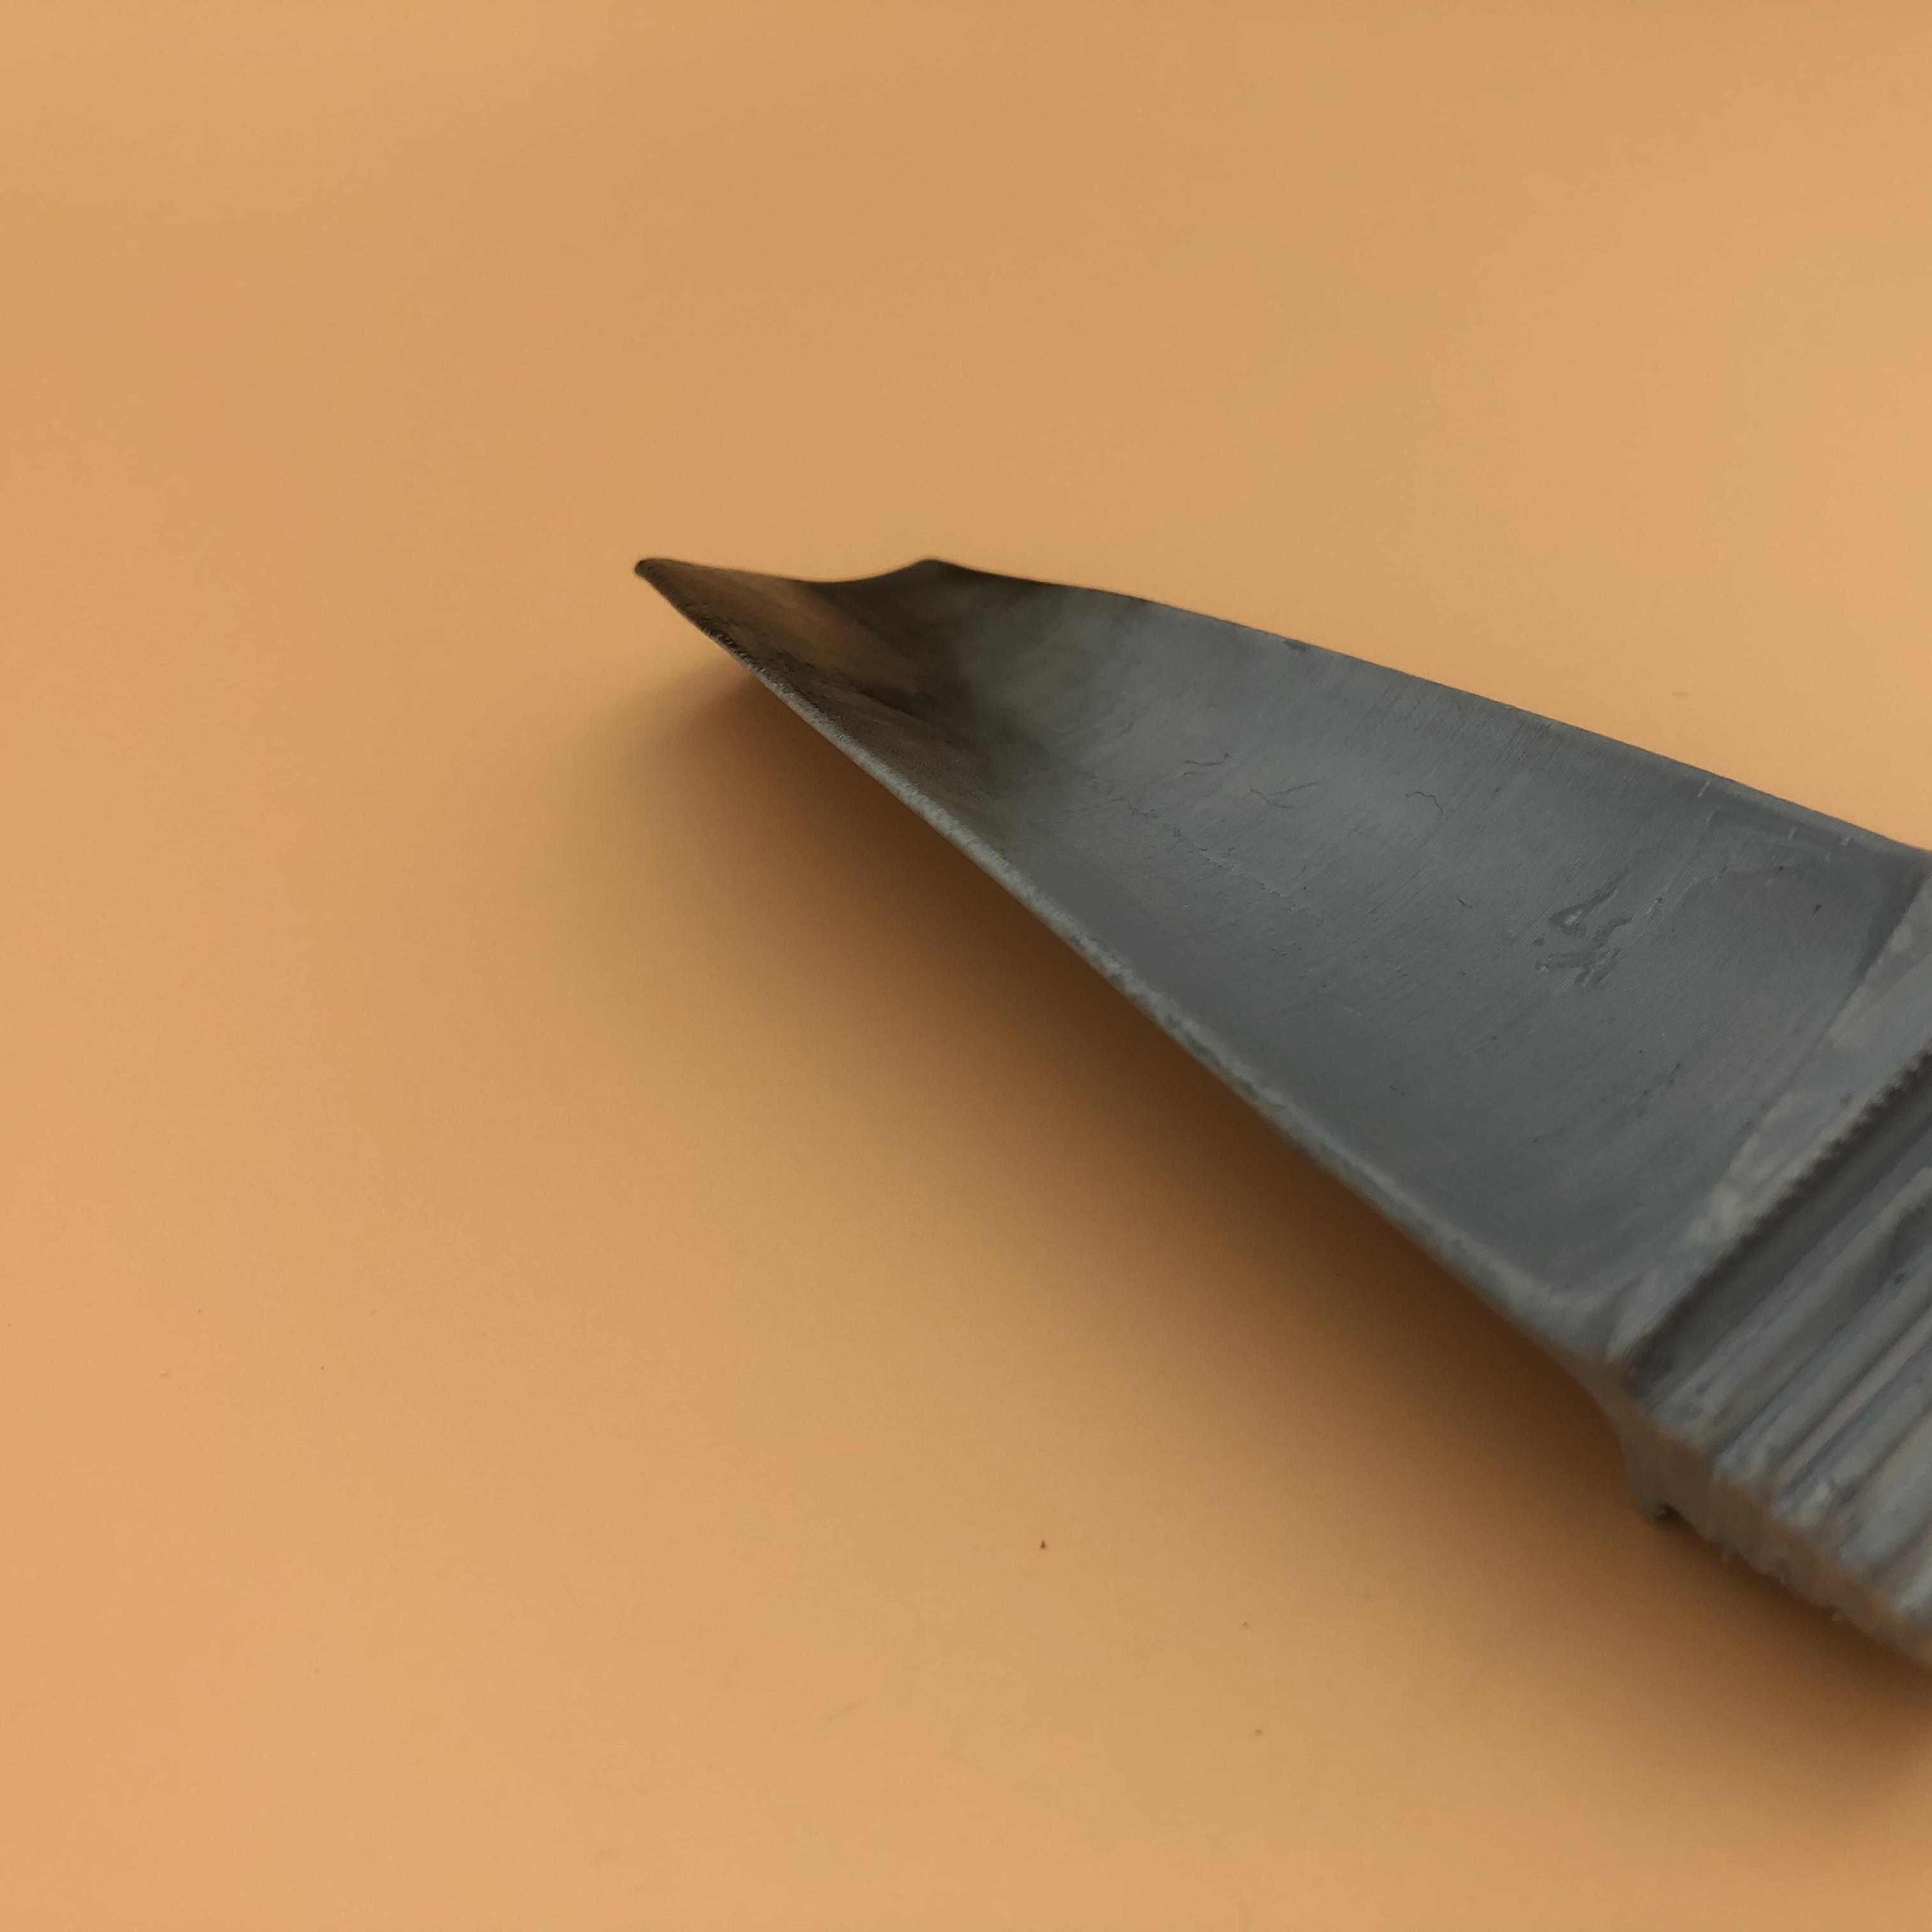ablation: (660, 557, 1120, 793)
